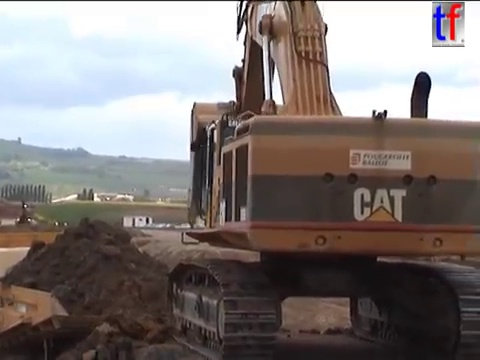excavator: (161, 1, 480, 360), (13, 199, 35, 227)
truck: (1, 225, 192, 360)
